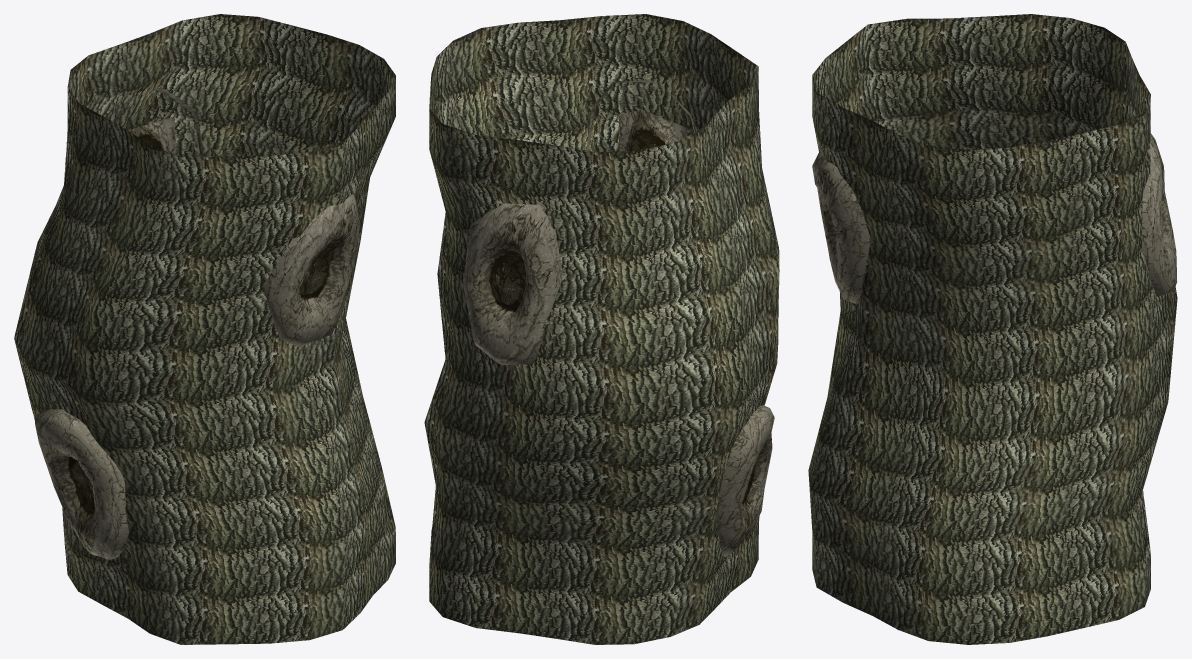
Rendered from Stump10.fbx.
3 views of the same model, side by side, from view 1: azimuth 30°, elevation 25°; view 2: azimuth 150°, elevation 25°; view 3: azimuth 270°, elevation 25° (orthographic).
Visible parts, largest first — view 1: Stump10; view 2: Stump10; view 3: Stump10.
Part boxes in pixels (left/top/right/bottom): Stump10: left=14, top=14, right=395, bottom=644; Stump10: left=424, top=14, right=779, bottom=644; Stump10: left=808, top=14, right=1177, bottom=644.
Bounding box in the file's own units: 13.88 × 20.01 × 13.51.
2 materials, 2 textured.
